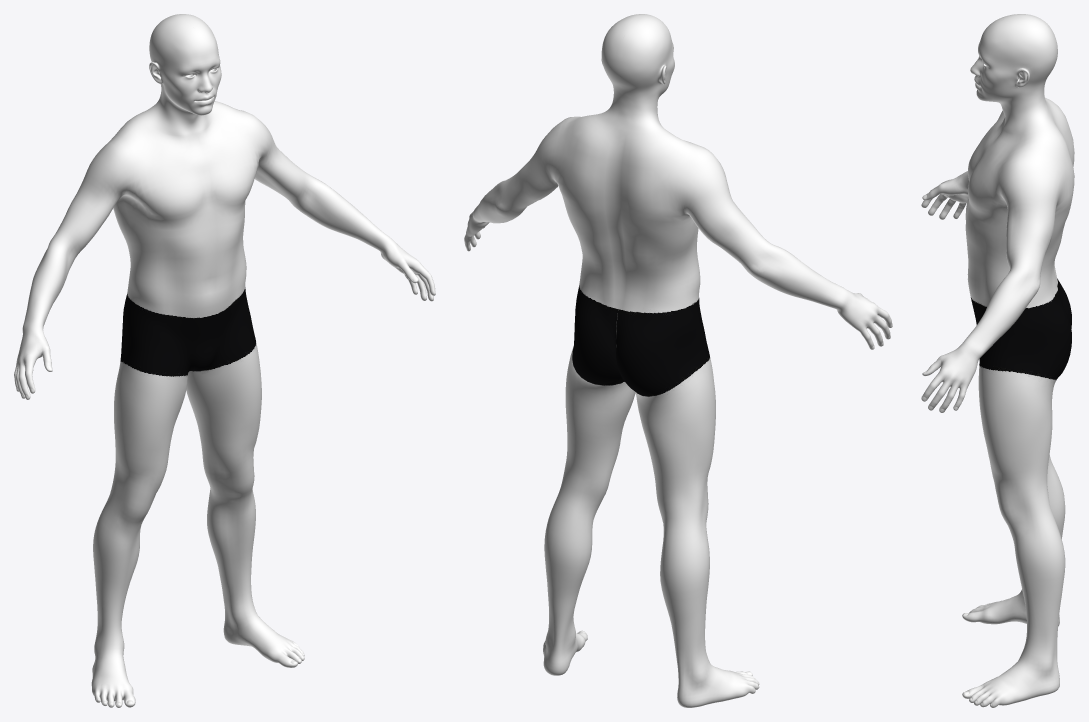
Rendered from alki_humgen_male_lean.glb.
3 views of the same model, side by side, from view 1: azimuth 30°, elevation 25°; view 2: azimuth 150°, elevation 25°; view 3: azimuth 270°, elevation 25° (orthographic). The views are drawn at different scales.
Visible parts, largest first — view 1: ALKI_male_lean_preview; view 2: ALKI_male_lean_preview; view 3: ALKI_male_lean_preview.
Part boxes in pixels (x1,y1,x2,y2): ALKI_male_lean_preview: (14,14,435,707); ALKI_male_lean_preview: (464,14,892,707); ALKI_male_lean_preview: (921,14,1074,707).
Size of the model in its own units: 1.18 by 1.78 by 0.3843.
Materials: 1 (1 with a texture image).
